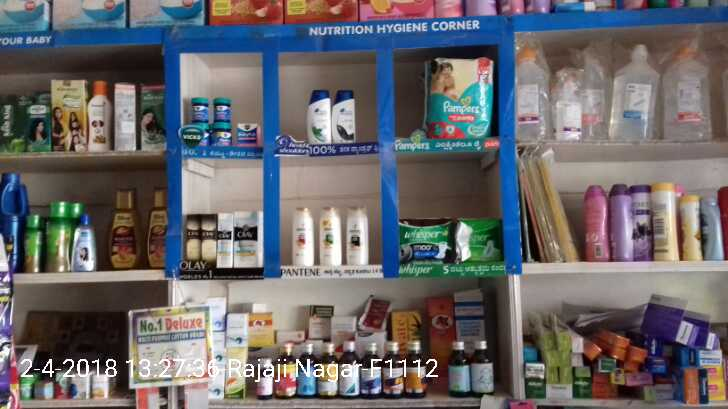vicks: (190, 97, 262, 145)
